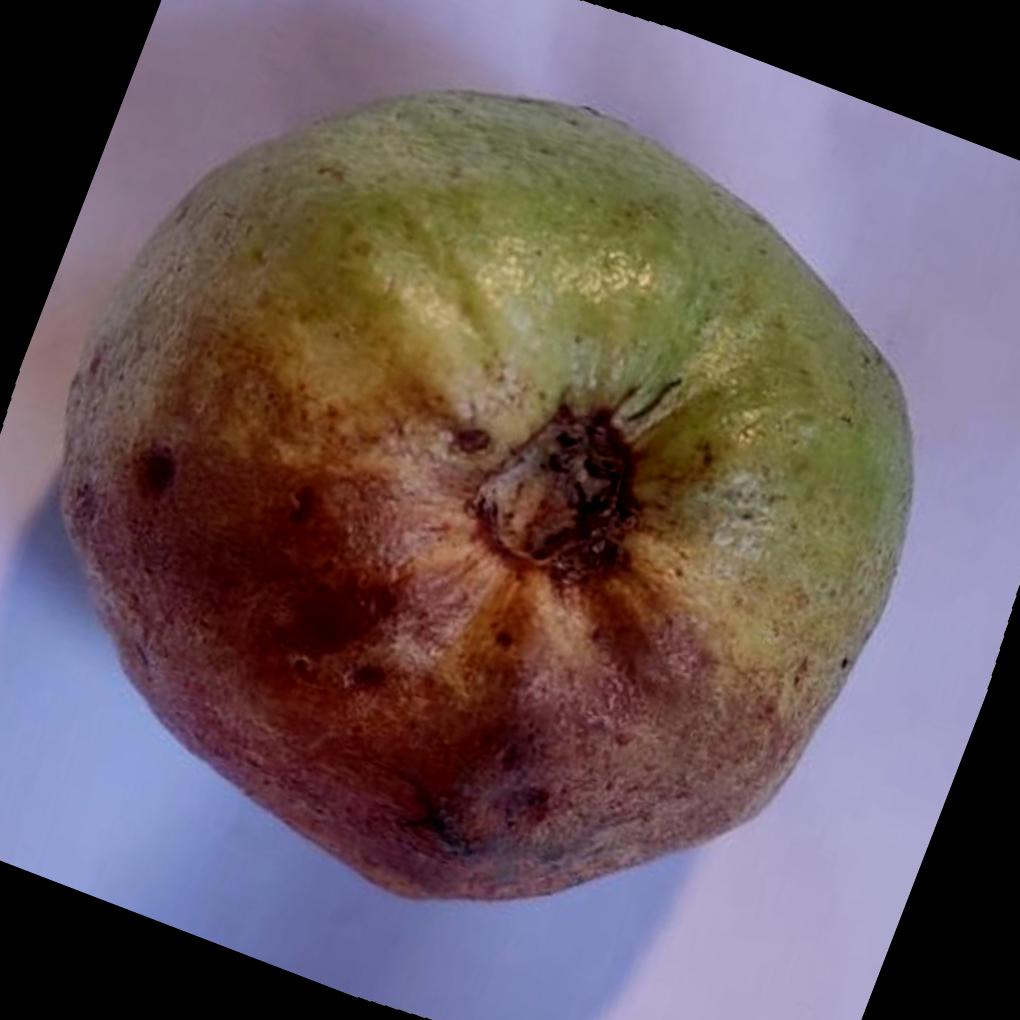FreshOrange: (58, 81, 916, 901)
